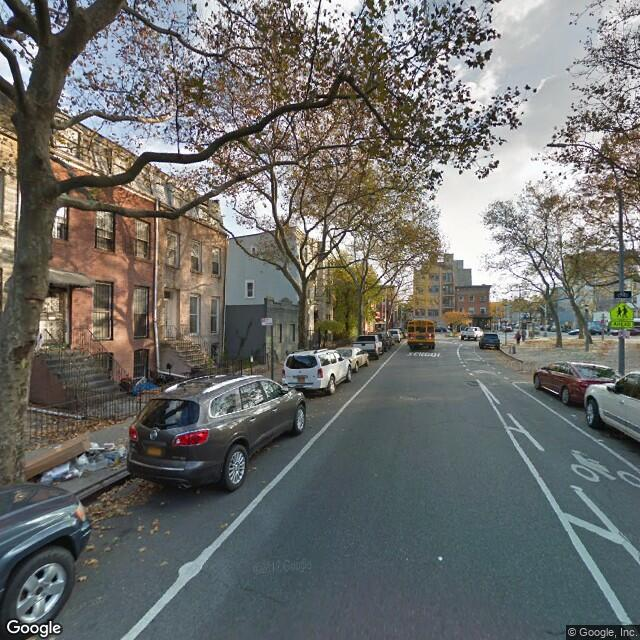litter: (61, 450, 115, 474)
